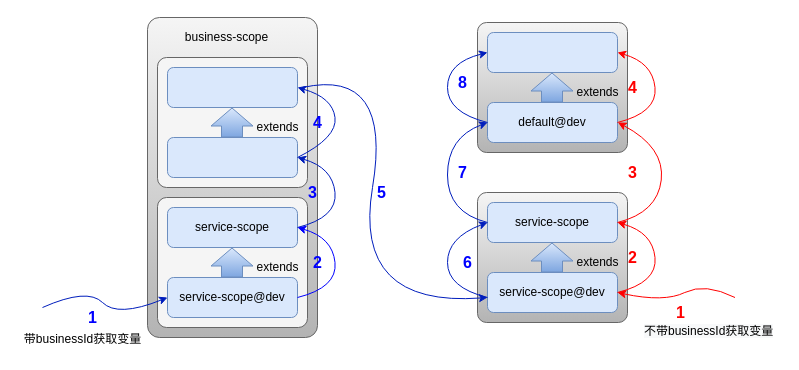
Some shapes in this 799 by 370 pixel diagram are drawn without their labels. The box of each missing label's shape, as (x1, y1, x2, y2) in pixels:
default: (486, 32, 618, 72)
default-scope: (166, 66, 298, 108)
default-scope@dev: (166, 136, 298, 178)
